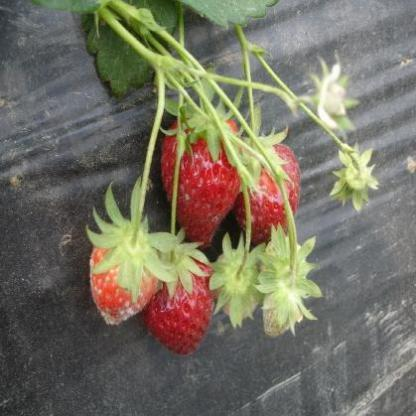Strawberry_Powdery_Mildew_Fruit: (90, 222, 165, 324)
